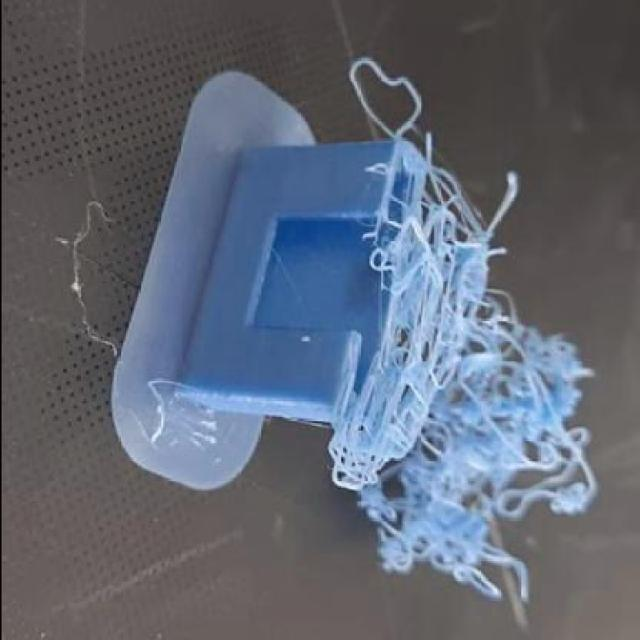Spaghetti: (324, 288, 602, 634), (340, 55, 526, 290)
